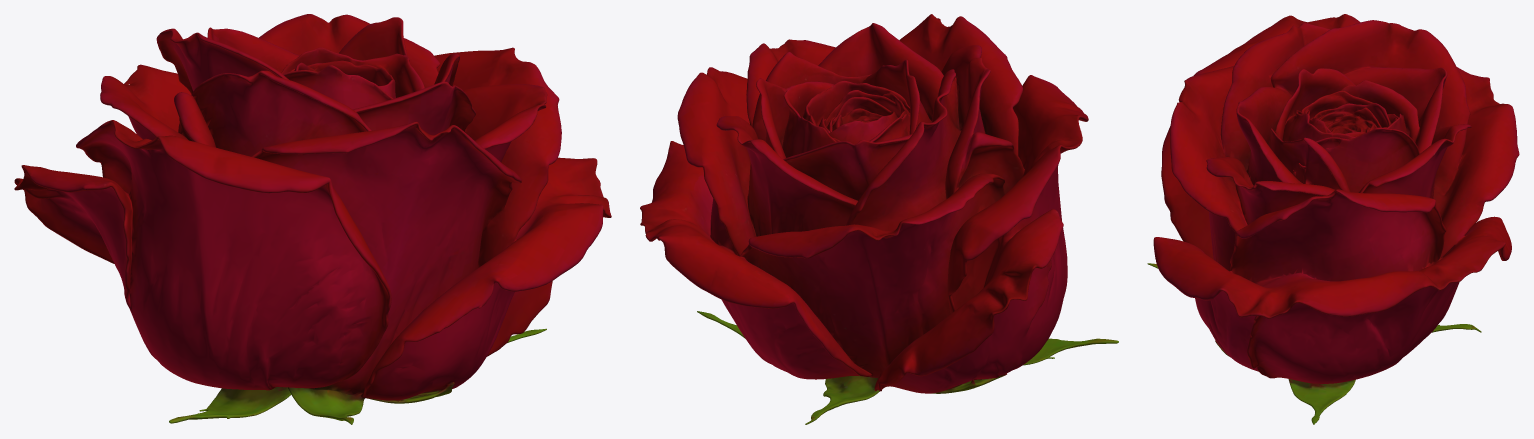
Rendered from red rose 3d model (4)_opt.glb.
3 renders of one model, left to right at view 1: azimuth 30°, elevation 25°; view 2: azimuth 150°, elevation 25°; view 3: azimuth 270°, elevation 25°, orthographic. The views are drawn at different scales.
Visible parts, largest first — view 1: tripo_node_38c38aef-72b6-41f4-8a18-23871fc6109a; view 2: tripo_node_38c38aef-72b6-41f4-8a18-23871fc6109a; view 3: tripo_node_38c38aef-72b6-41f4-8a18-23871fc6109a.
Boxes of the visible parts, left/top/right/bottom form: tripo_node_38c38aef-72b6-41f4-8a18-23871fc6109a: left=14, top=14, right=611, bottom=424; tripo_node_38c38aef-72b6-41f4-8a18-23871fc6109a: left=640, top=14, right=1118, bottom=424; tripo_node_38c38aef-72b6-41f4-8a18-23871fc6109a: left=1147, top=14, right=1519, bottom=424.
Bounding box in the file's own units: 1 × 0.6926 × 0.8053.
1 material, 1 textured.
